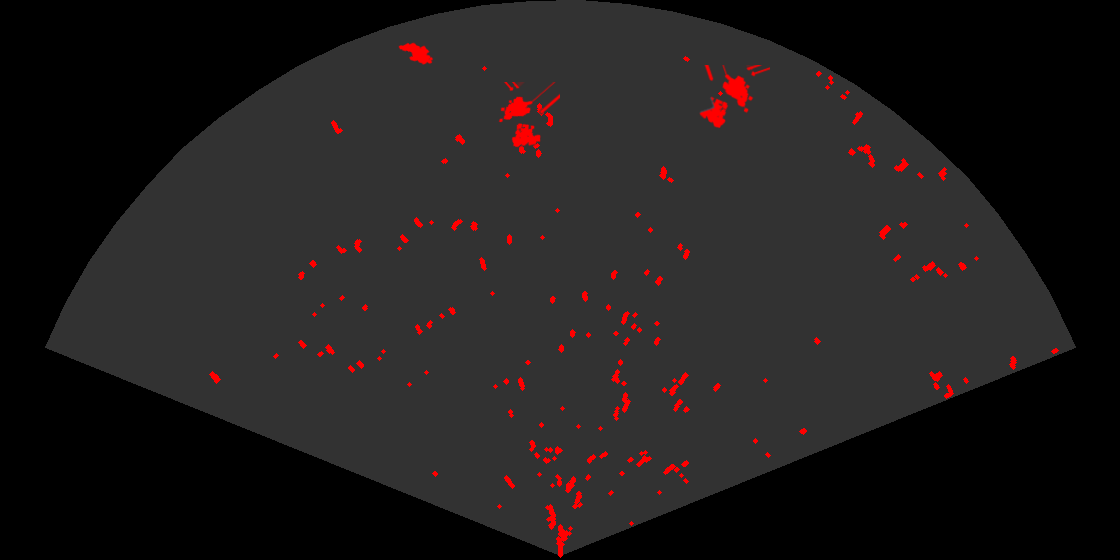AUV: (397, 41, 435, 66)
cage: (698, 65, 770, 130), (497, 82, 560, 149)
